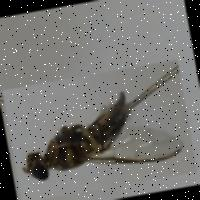Oriental-fruit-fly: (1, 58, 196, 200)
